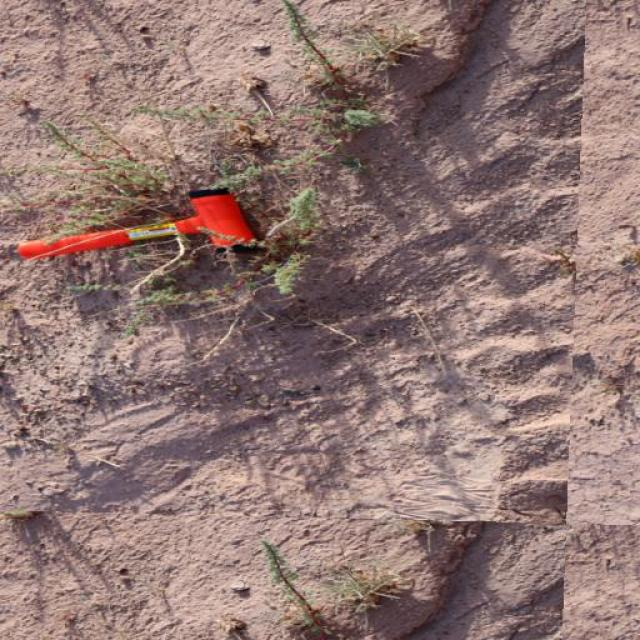mallet: (14, 184, 260, 261)
